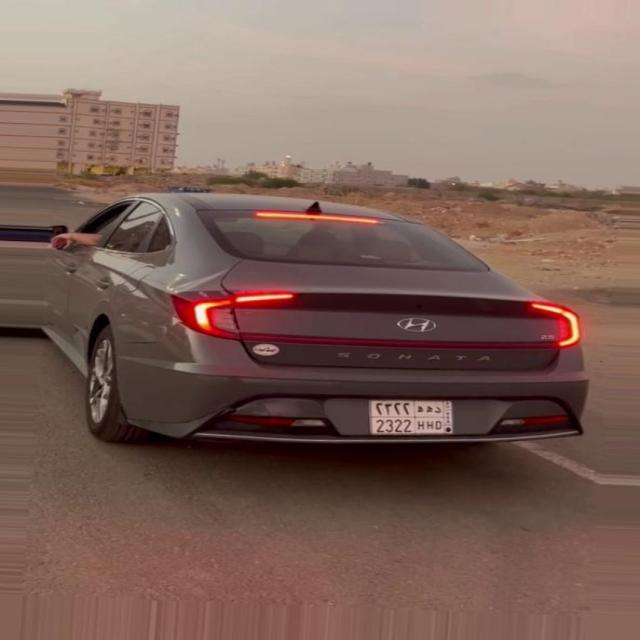Car-plate: (348, 392, 478, 446)
